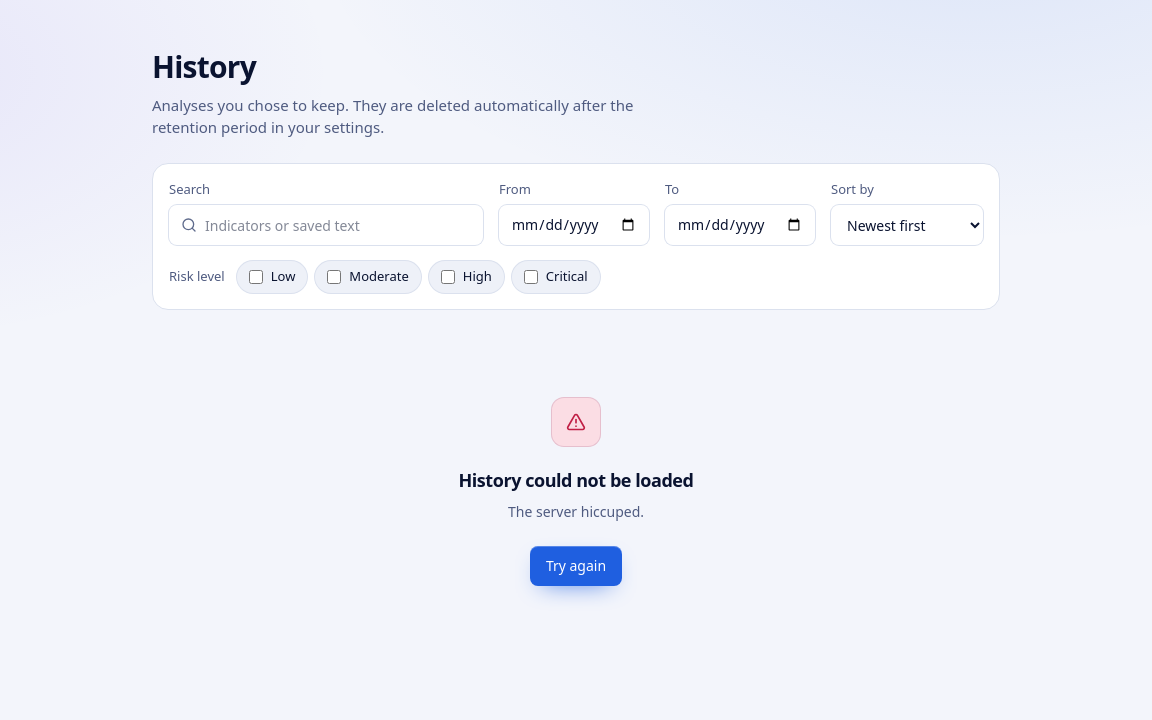
Test: HistoryPage › reports a load failure and can retry
Expected: the heading "History could not be loaded" is shown, [458,466,694,494]
Expected: the text "The server hiccuped." is shown, [508,502,644,522]
Click the button "Try again" at point(576, 566), box [530,546,622,586]
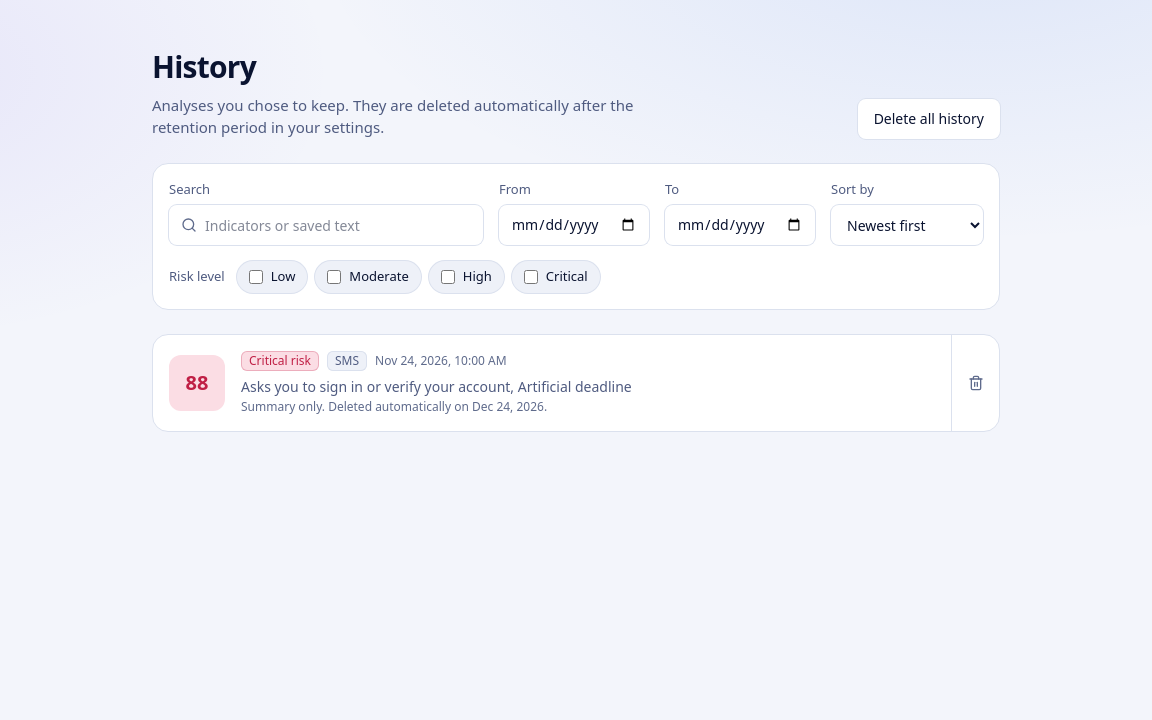
Now the list named "Saved analyses" is shown, box [152,334,1000,432]
